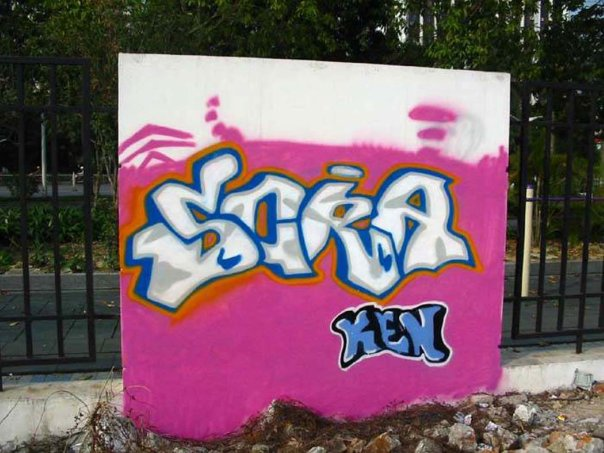graffity: (113, 48, 510, 409)
